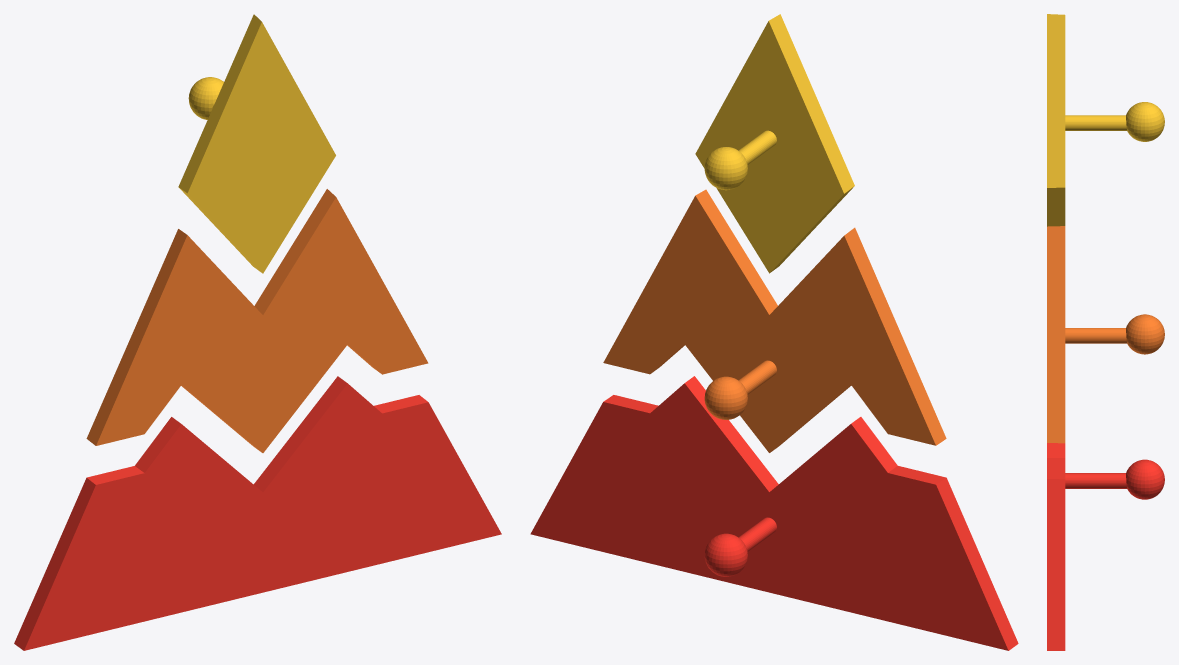
File: Hanoi.fbx
3 renders of one model, left to right at view 1: azimuth 30°, elevation 25°; view 2: azimuth 150°, elevation 25°; view 3: azimuth 270°, elevation 25°, orthographic. The views are drawn at different scales.
Visible parts, largest first — view 1: BaseHanoi, MiddleHanoi, TopHanoi; view 2: BaseHanoi, MiddleHanoi, TopHanoi; view 3: MiddleHanoi, TopHanoi, BaseHanoi.
Part boxes in pixels (box(x1,y1,x2,y2)): BaseHanoi: box(14, 376, 501, 650); MiddleHanoi: box(86, 189, 428, 452); TopHanoi: box(178, 14, 335, 273); BaseHanoi: box(530, 376, 1018, 650); MiddleHanoi: box(603, 189, 946, 452); TopHanoi: box(695, 14, 854, 273); MiddleHanoi: box(1047, 226, 1164, 443); TopHanoi: box(1047, 14, 1164, 226); BaseHanoi: box(1047, 443, 1164, 650).
Size of the model in its own units: 100 by 114 by 23.1.
3 materials, 3 textured.
